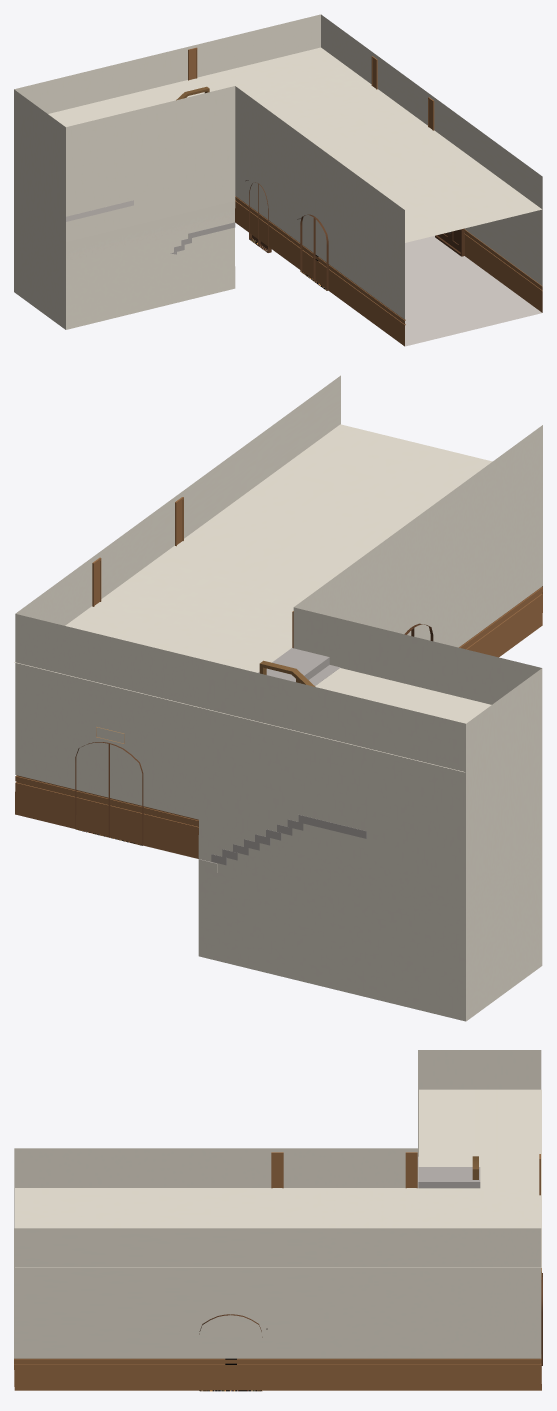
File: corridor3.fbx
The picture shows the model from 3 angles, top to bottom: view 1: azimuth 30°, elevation 25°; view 2: azimuth 150°, elevation 25°; view 3: azimuth 270°, elevation 25°; orthographic projection. The views are drawn at different scales.
Parts seen in each view (by area): view 1: corrodor3, Object194; view 2: corrodor3, Object194; view 3: corrodor3, Object194.
Part boxes in pixels (x1,y1,x2,y2): corrodor3: [14, 14, 542, 346]; Object194: [48, 47, 541, 242]; corrodor3: [15, 375, 542, 1021]; Object194: [14, 424, 492, 772]; corrodor3: [14, 1050, 542, 1391]; Object194: [15, 1089, 541, 1267].
Size of the model in its own units: 18.71 by 23.31 by 11.72.
Materials: 2 (2 with a texture image).
